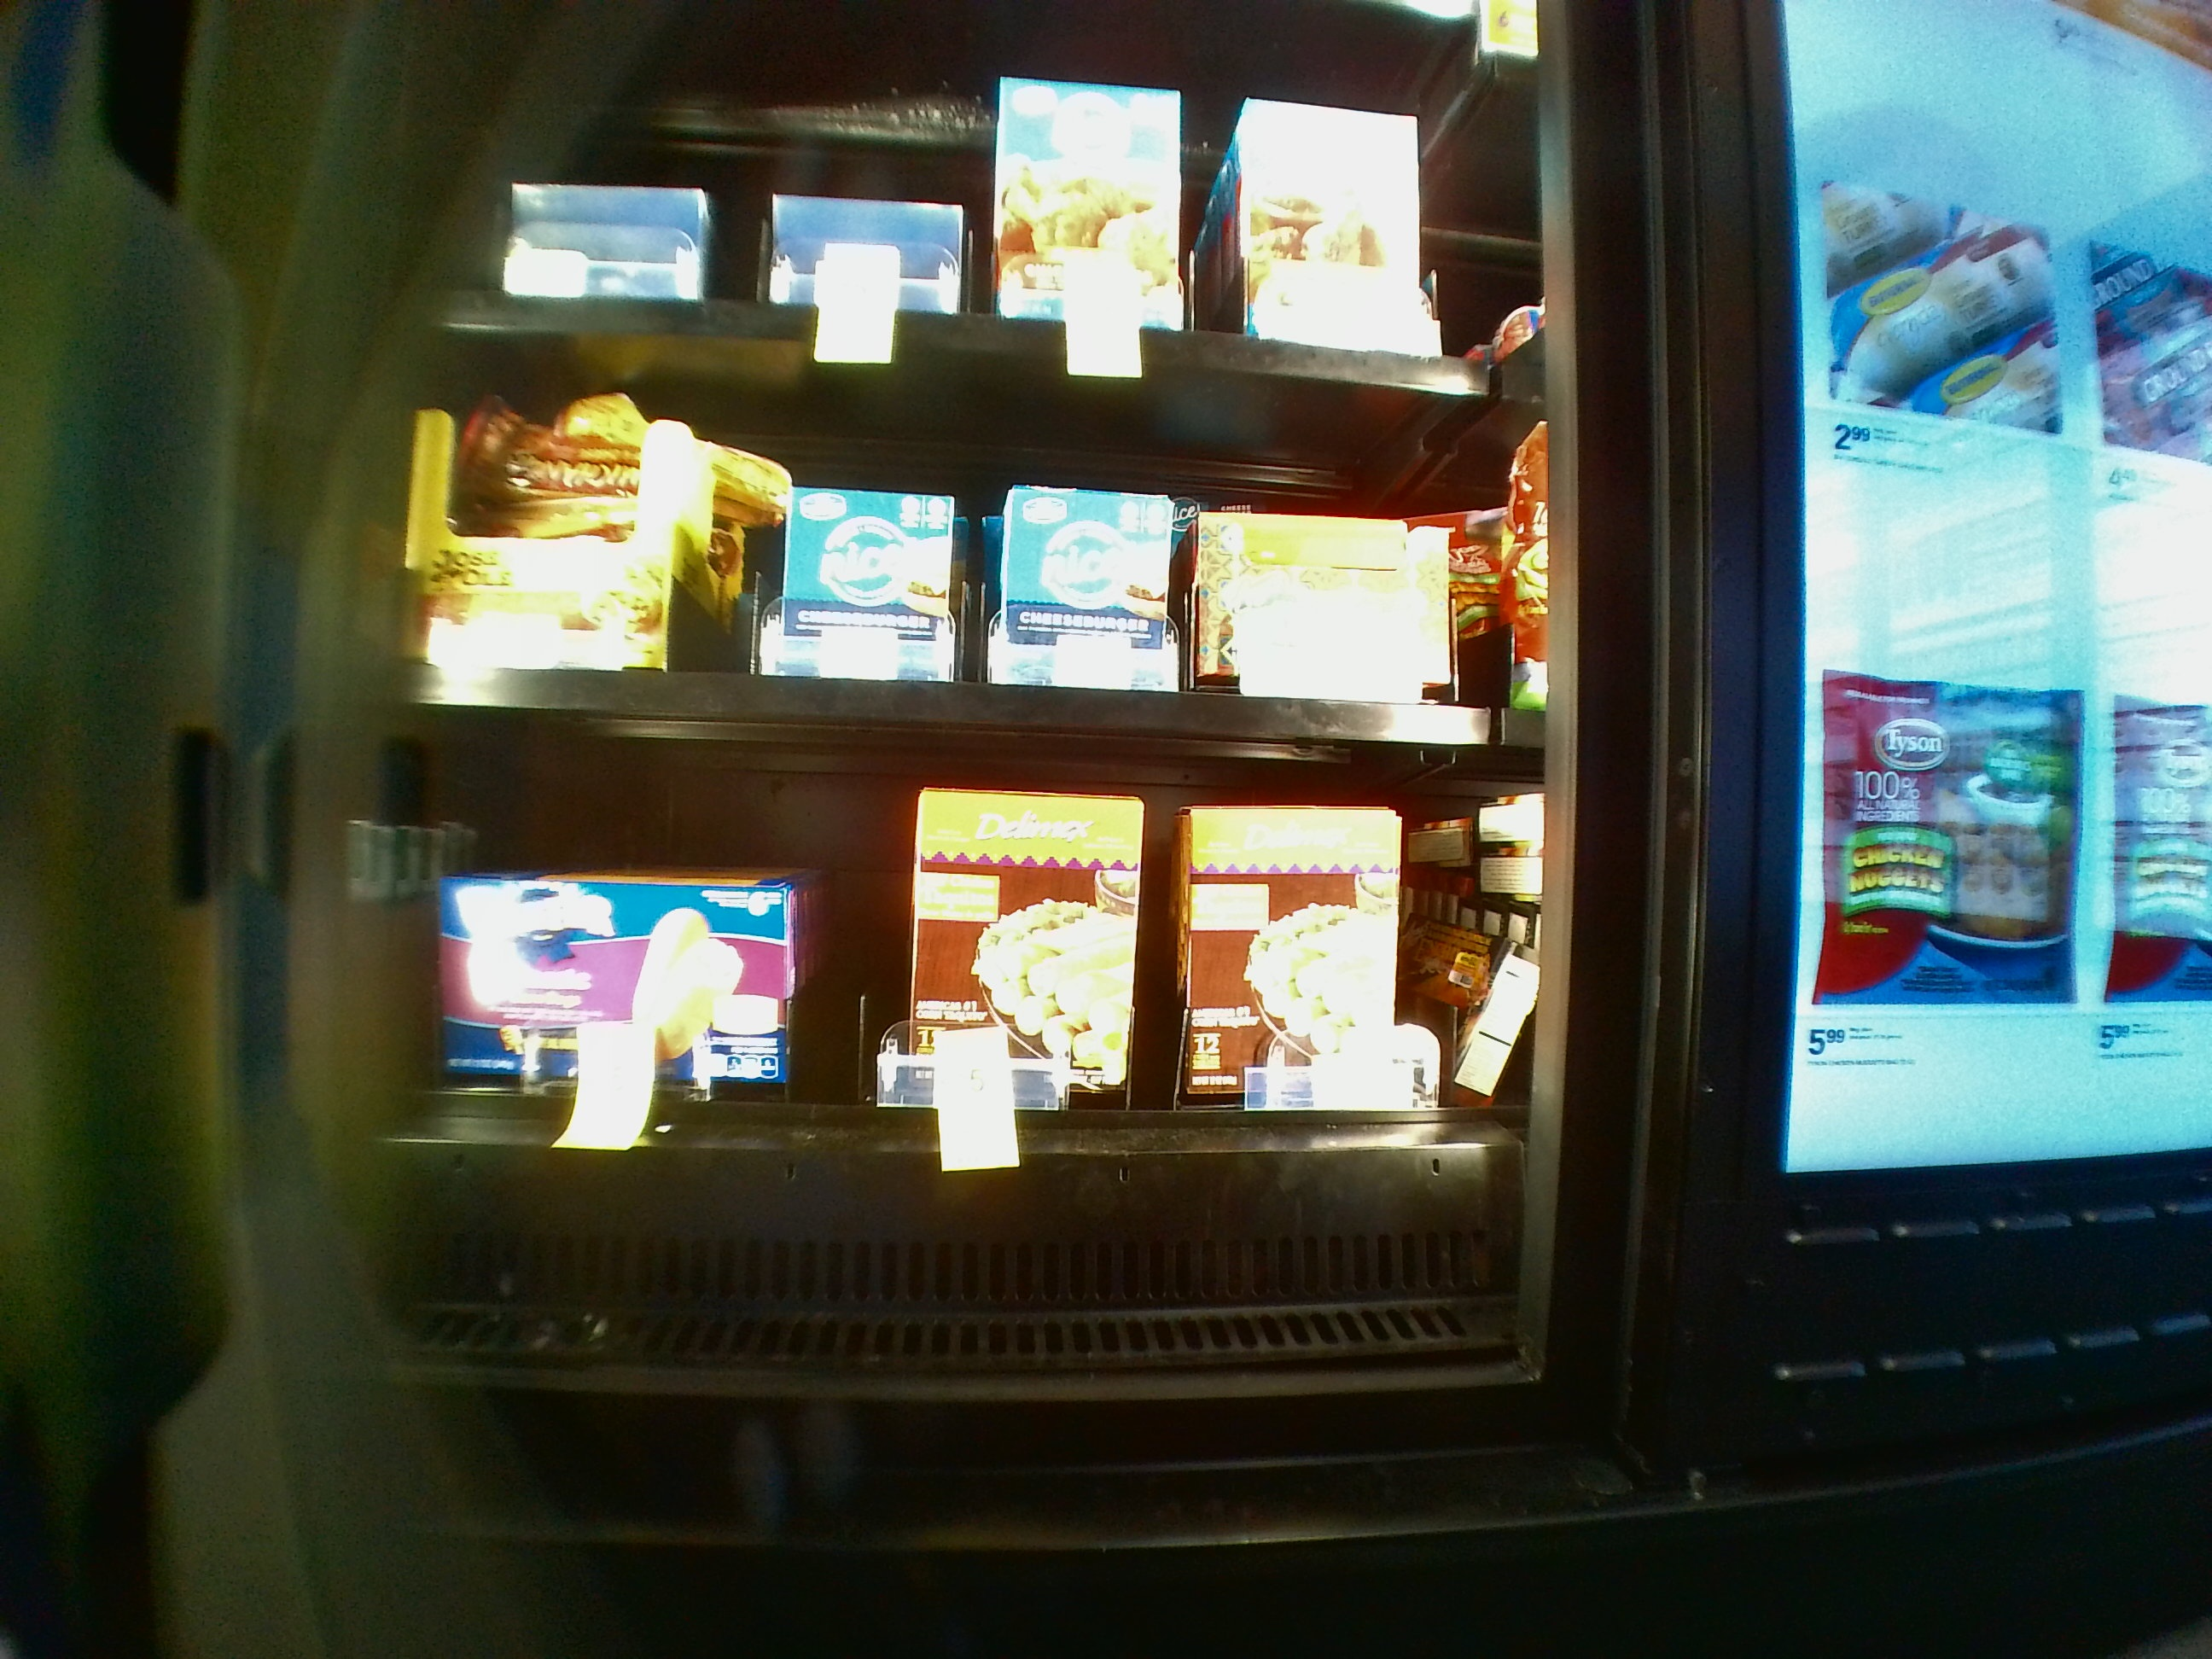shelf: (394, 763, 1521, 1354), (399, 329, 1508, 744)
